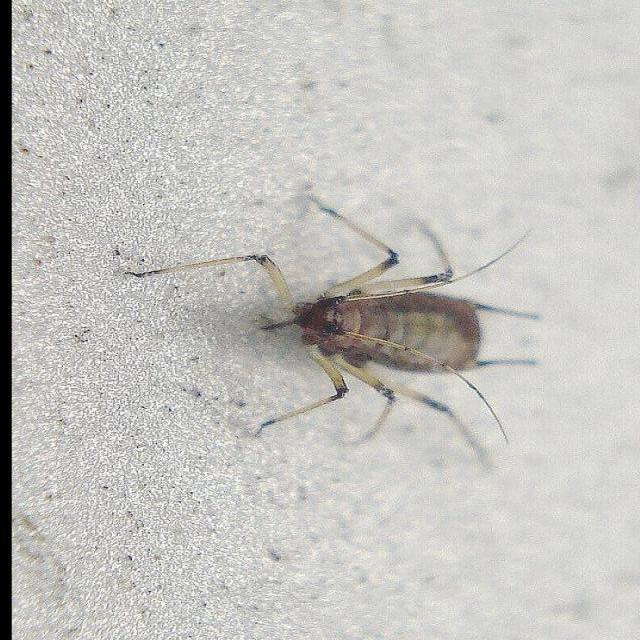aphid: (153, 196, 528, 440)
